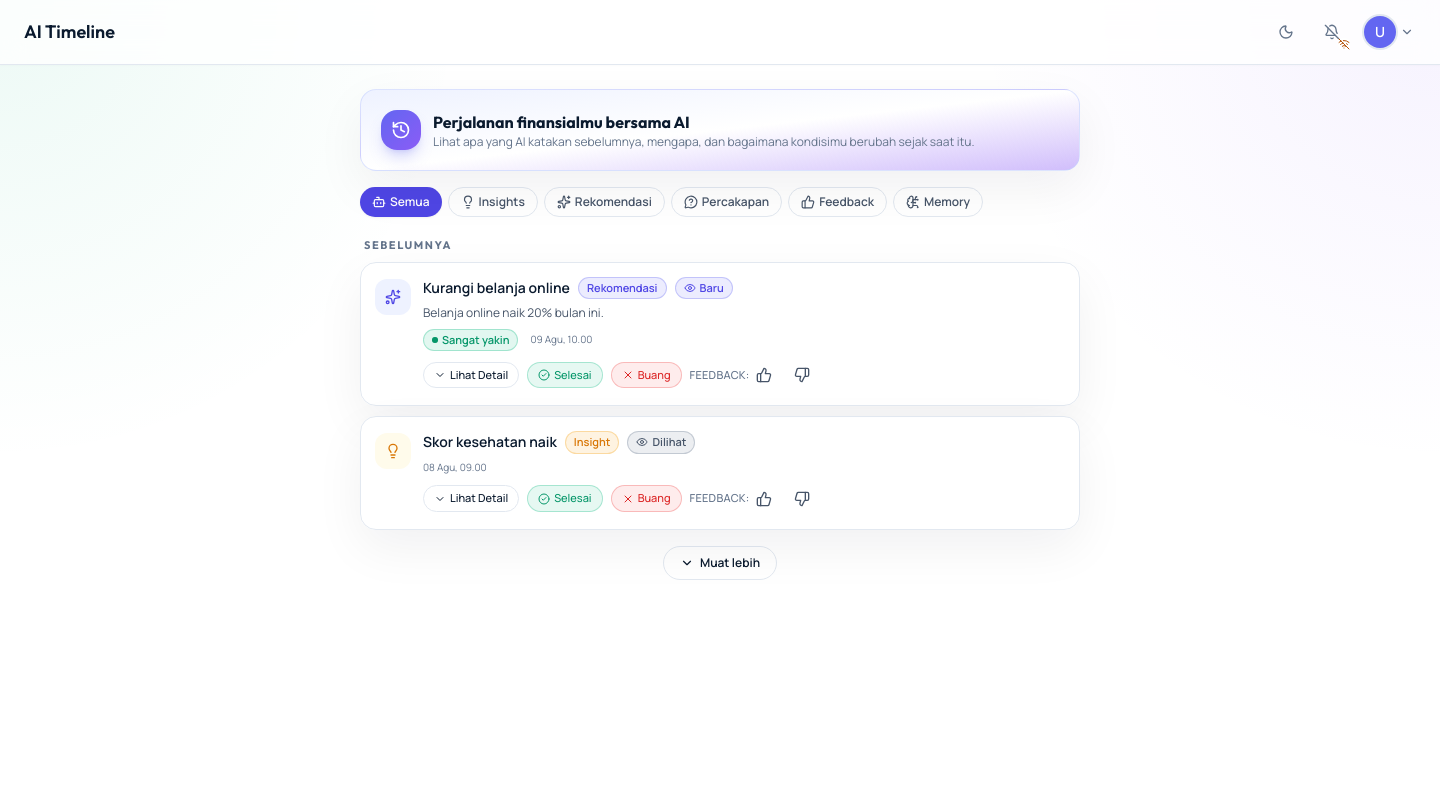
Test: AiTimelinePage — pagination "Muat lebih" › hasMore → tombol Muat lebih append halaman berikutnya (keyset before)
The width and height of the screenshot is (1440, 810).
Expected: the text "Kurangi belanja online" is shown, left=423, top=278, right=570, bottom=298
Click the button "Muat lebih" at (720, 562), box left=663, top=546, right=777, bottom=580
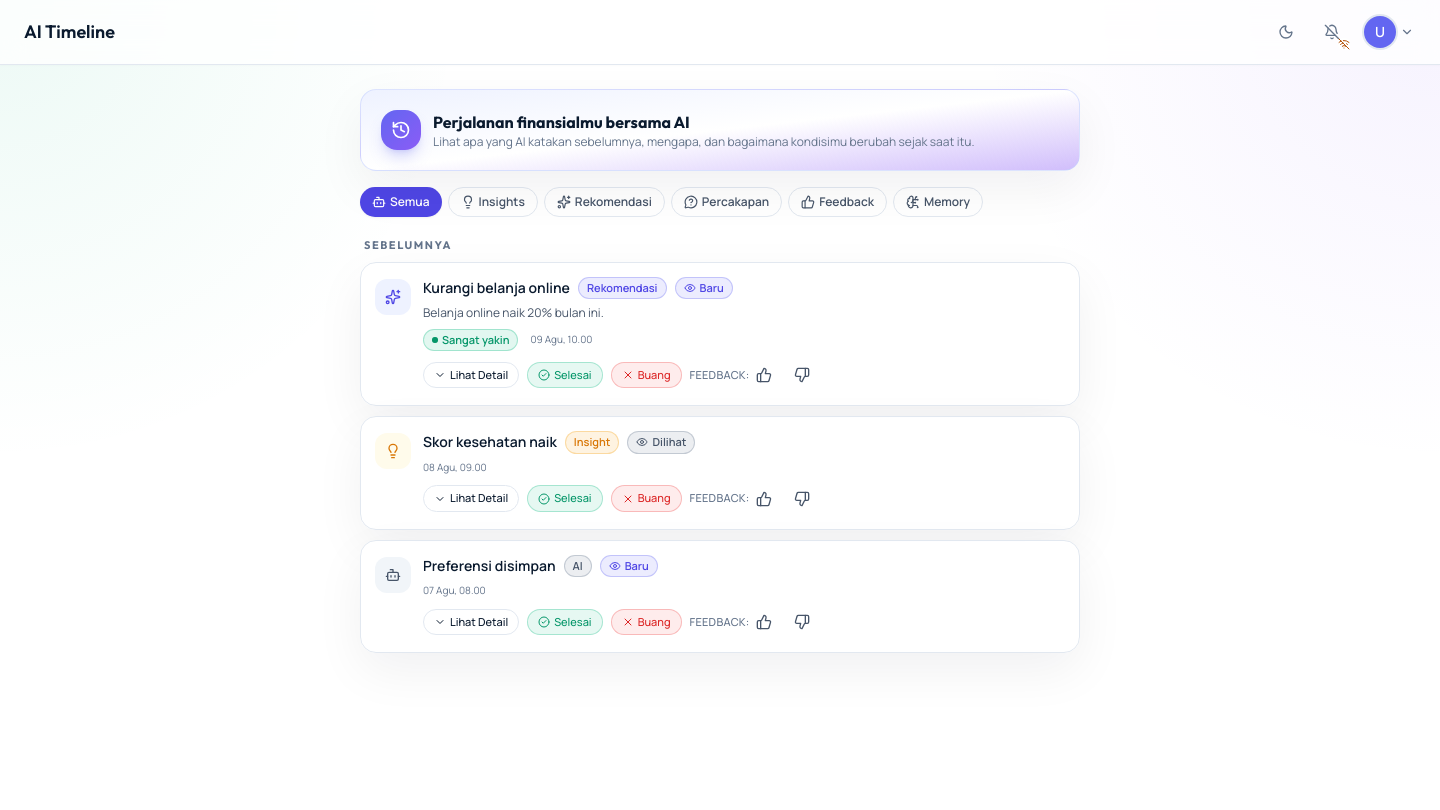
Expected: the text "Preferensi disimpan" is shown, left=423, top=556, right=556, bottom=576
